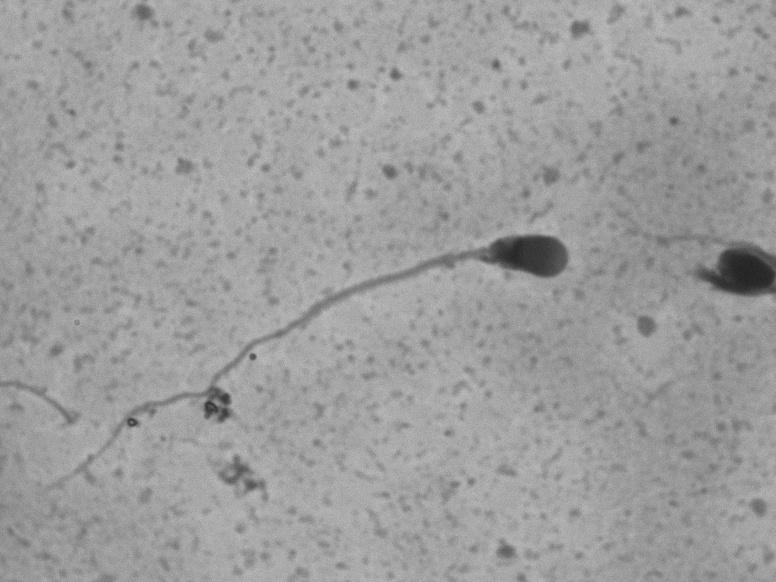Abnormal: (32, 222, 581, 497)
